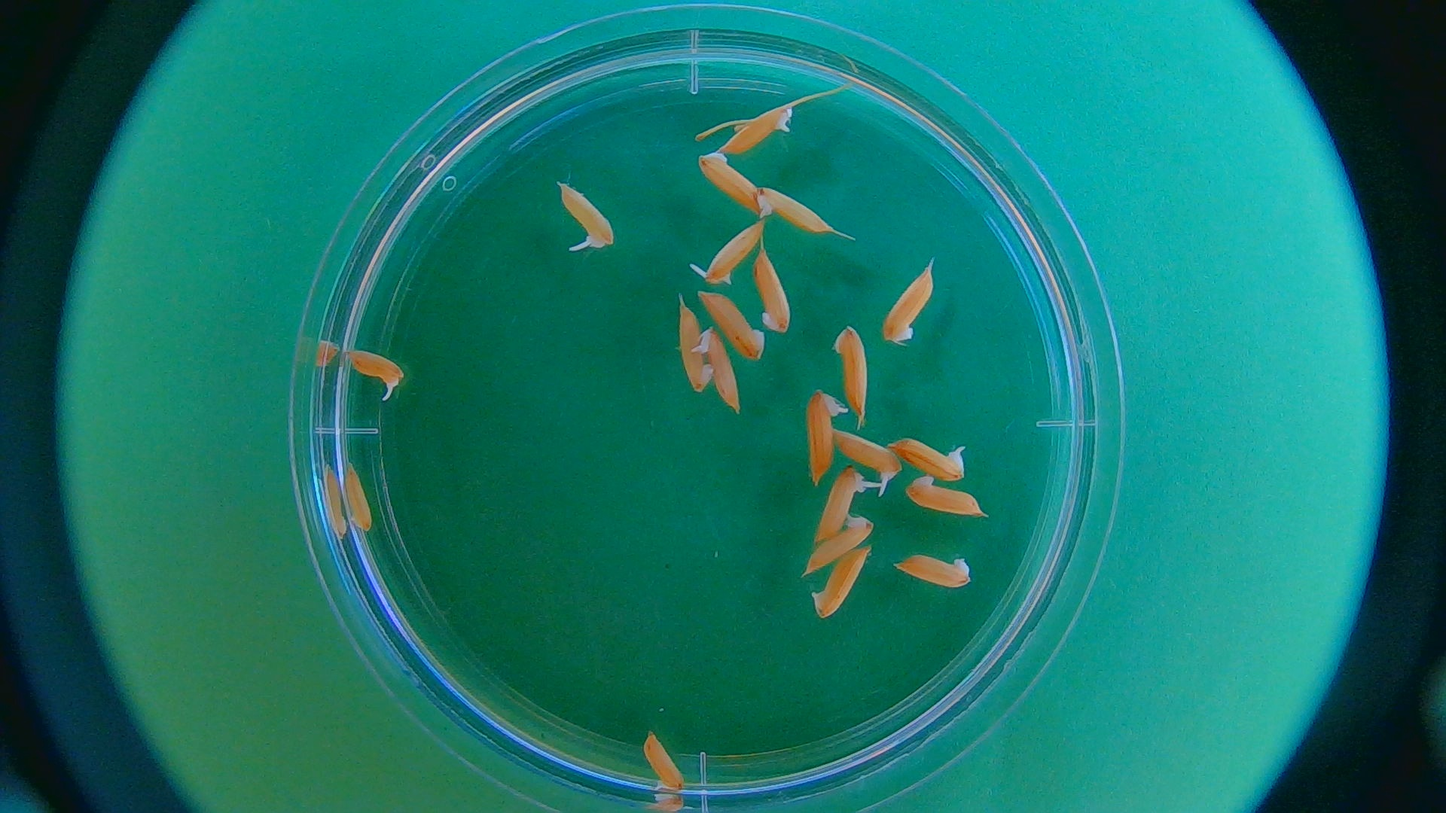no: (701, 288, 771, 363), (877, 268, 938, 343), (720, 104, 799, 157), (670, 300, 712, 399), (803, 516, 872, 574), (813, 548, 870, 617), (702, 154, 764, 214), (755, 247, 792, 338), (837, 324, 870, 424), (908, 475, 981, 520), (893, 552, 970, 590), (644, 734, 687, 791), (318, 464, 348, 541), (346, 461, 378, 531)
yes: (813, 467, 866, 543), (705, 222, 768, 283), (831, 427, 900, 481), (759, 187, 831, 238), (886, 437, 967, 480), (700, 327, 739, 415), (804, 385, 840, 480), (560, 185, 614, 248), (347, 348, 404, 391)
